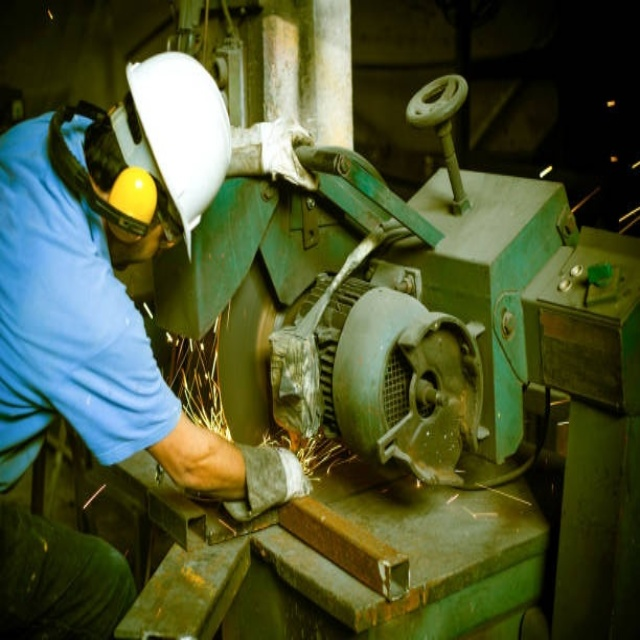Gafas: (155, 202, 182, 249)
Guantes: (217, 441, 314, 523), (226, 116, 320, 191)
